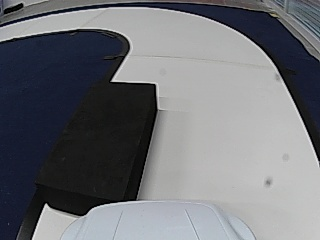block: (34, 78, 158, 200)
